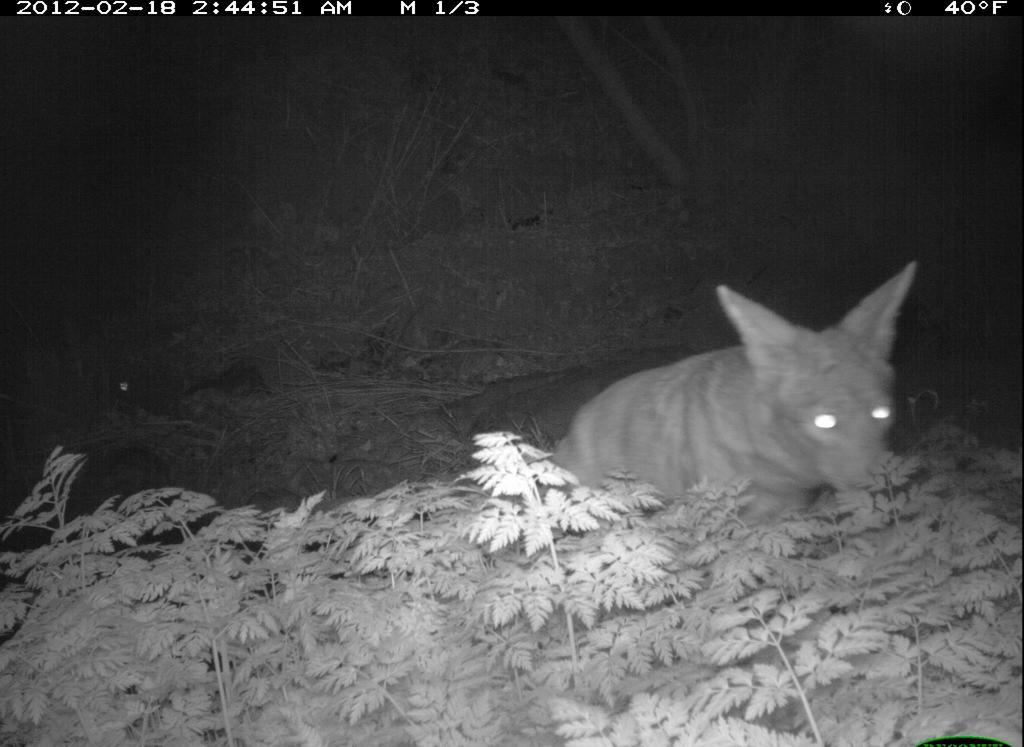coyote: (553, 255, 927, 525)
